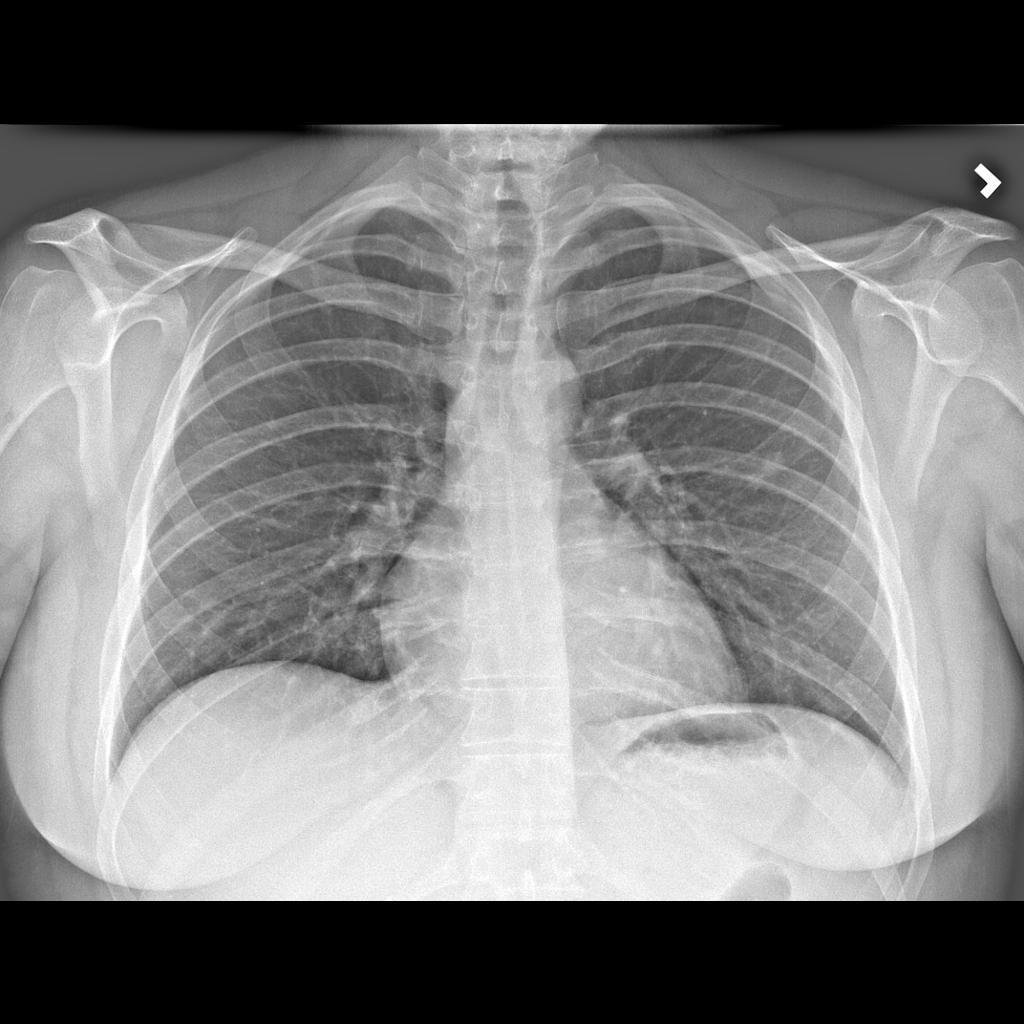Nodule: (760, 453, 790, 485)
